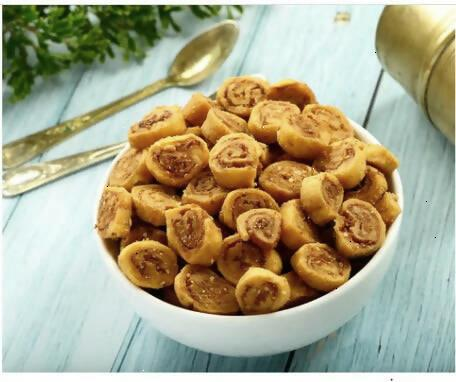bhakarwadi: (101, 78, 400, 302)
